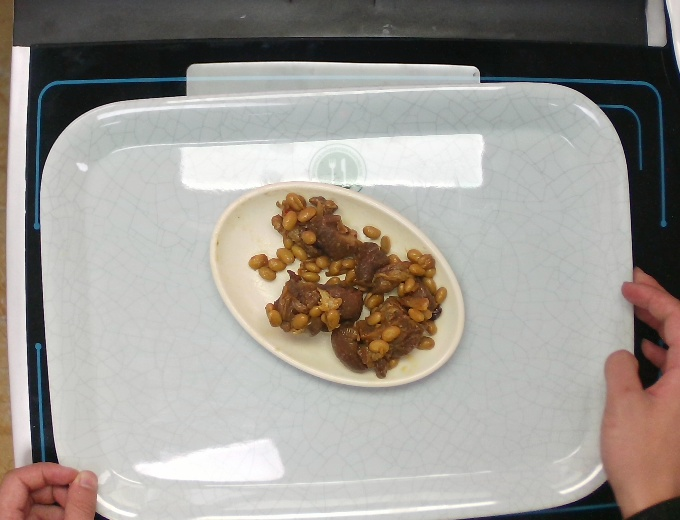JYsf-Tuo_Yuan_Wan: (208, 178, 468, 390)
